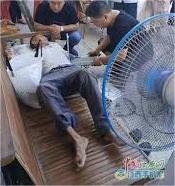bending: (84, 1, 157, 93), (29, 1, 84, 59)
down: (1, 28, 126, 178)
